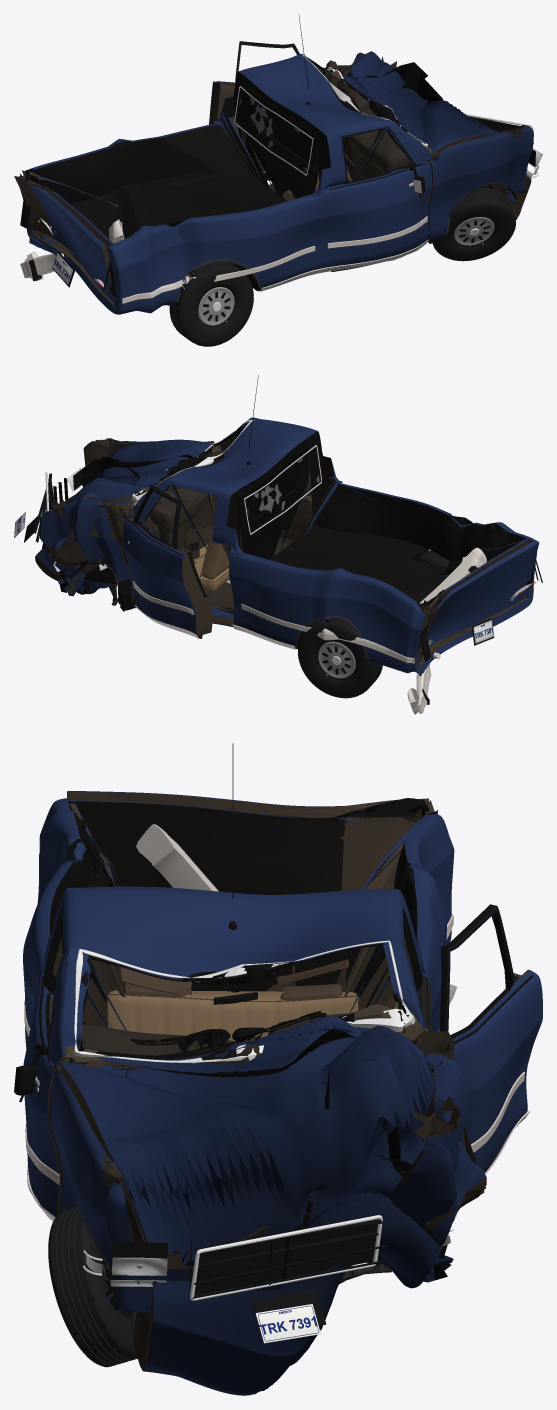
Rendered from pickup87_front_corner_d3.glb.
The picture shows the model from 3 angles, top to bottom: view 1: azimuth 30°, elevation 25°; view 2: azimuth 150°, elevation 25°; view 3: azimuth 270°, elevation 25°; orthographic projection. The views are drawn at different scales.
Visible parts, largest first — view 1: Body, Hood, Wheel_RR_mesh, Wheel_FR_mesh, Tailgate, Door_FR, Interior, Trim, Trim_FR, Ends, Glass, Door_FL (+1 smaller); view 2: Body, Hood, Door_FL, Tailgate, Wheel_RL_mesh, Interior, Trim, Ends, Bumper_R, Glass, Trim_FL, Door_FR; view 3: Body, Hood, Ends, Interior, Door_FL, Wheel_FR_mesh, Glass, Door_FR, Tailgate, Trim, Bumper_R, Trim_FR (+1 smaller).
Part boxes in pixels (left/top/right/bottom): Body: left=20, top=52, right=533, bottom=314; Hood: left=341, top=51, right=531, bottom=220; Wheel_RR_mesh: left=169, top=262, right=253, bottom=346; Wheel_FR_mesh: left=432, top=187, right=515, bottom=261; Tailgate: left=14, top=176, right=113, bottom=302; Door_FR: left=324, top=128, right=433, bottom=267; Interior: left=287, top=78, right=409, bottom=195; Trim: left=122, top=14, right=515, bottom=305; Trim_FR: left=324, top=126, right=429, bottom=272; Ends: left=20, top=113, right=542, bottom=297; Glass: left=234, top=55, right=427, bottom=176; Door_FL: left=209, top=41, right=299, bottom=171; Body: left=39, top=417, right=536, bottom=676; Hood: left=35, top=439, right=212, bottom=594; Door_FL: left=122, top=485, right=212, bottom=636; Tailgate: left=419, top=540, right=539, bottom=661; Wheel_RL_mesh: left=298, top=619, right=382, bottom=698; Interior: left=149, top=451, right=229, bottom=590; Trim: left=58, top=375, right=414, bottom=663; Ends: left=14, top=466, right=542, bottom=661; Bumper_R: left=407, top=547, right=486, bottom=714; Glass: left=132, top=419, right=321, bottom=534; Trim_FL: left=125, top=487, right=202, bottom=638; Door_FR: left=279, top=473, right=331, bottom=542; Body: left=23, top=798, right=471, bottom=1312; Hood: left=58, top=1015, right=486, bottom=1395; Ends: left=82, top=1199, right=456, bottom=1343; Interior: left=82, top=959, right=359, bottom=1055; Door_FL: left=439, top=904, right=542, bottom=1172; Wheel_FR_mesh: left=48, top=1206, right=137, bottom=1367; Glass: left=74, top=940, right=415, bottom=1063; Door_FR: left=23, top=907, right=62, bottom=1217; Tailgate: left=67, top=791, right=428, bottom=817; Trim: left=24, top=743, right=453, bottom=1305; Bumper_R: left=136, top=824, right=456, bottom=1003; Trim_FR: left=14, top=908, right=64, bottom=1220.
Bounding box in the file's own units: 4.94 × 2.57 × 2.49.
33 materials, 5 textured.
